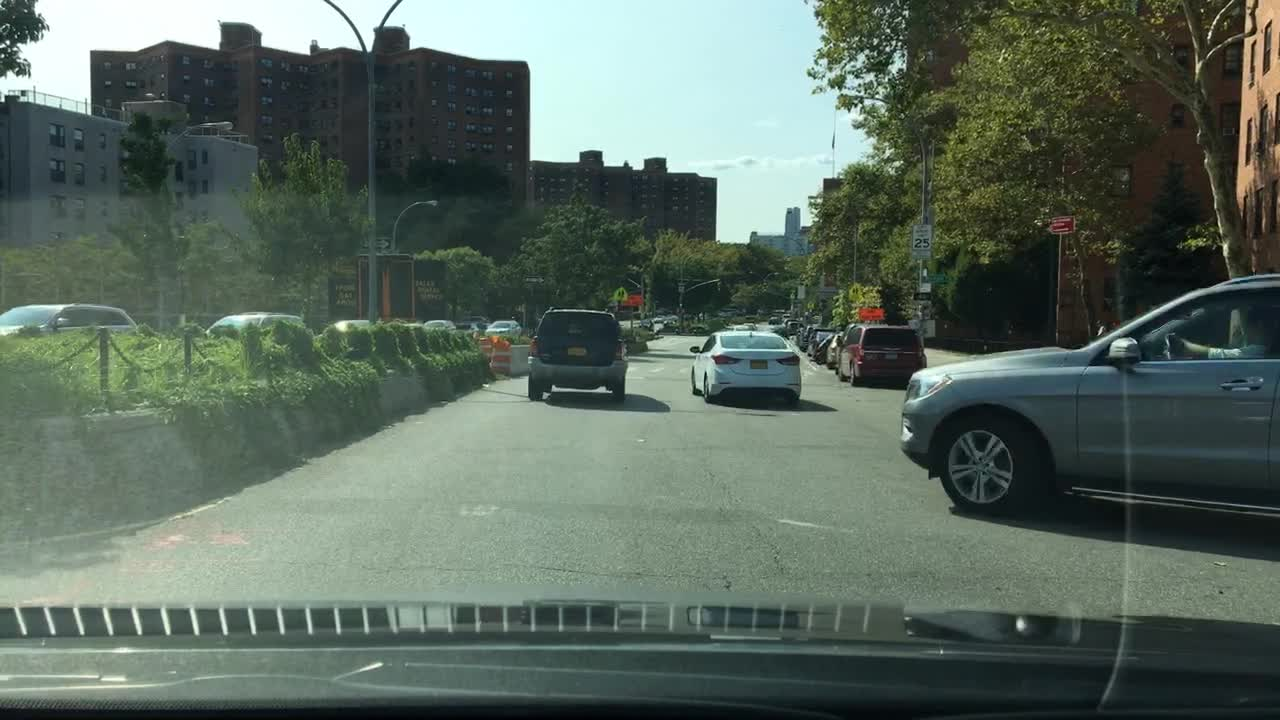car: (901, 270, 1278, 516), (525, 306, 626, 403), (689, 328, 803, 409), (838, 323, 928, 389), (0, 302, 137, 336), (204, 310, 309, 333), (807, 326, 839, 359), (320, 317, 371, 335), (825, 330, 845, 371), (794, 324, 816, 350), (421, 317, 456, 333), (485, 318, 523, 331), (783, 321, 803, 337), (775, 318, 794, 334), (465, 322, 491, 332), (465, 314, 486, 323), (731, 323, 752, 332), (768, 312, 782, 325), (664, 314, 679, 326), (638, 318, 651, 329), (744, 320, 757, 330), (653, 314, 665, 323), (781, 314, 790, 323)
traffic sign: (911, 223, 931, 249), (909, 319, 935, 338), (359, 235, 391, 250), (1051, 215, 1076, 234), (858, 305, 884, 317), (620, 294, 642, 304), (613, 287, 628, 300), (920, 274, 945, 281), (913, 293, 932, 301), (526, 275, 544, 283), (798, 284, 807, 296), (920, 282, 932, 290)
